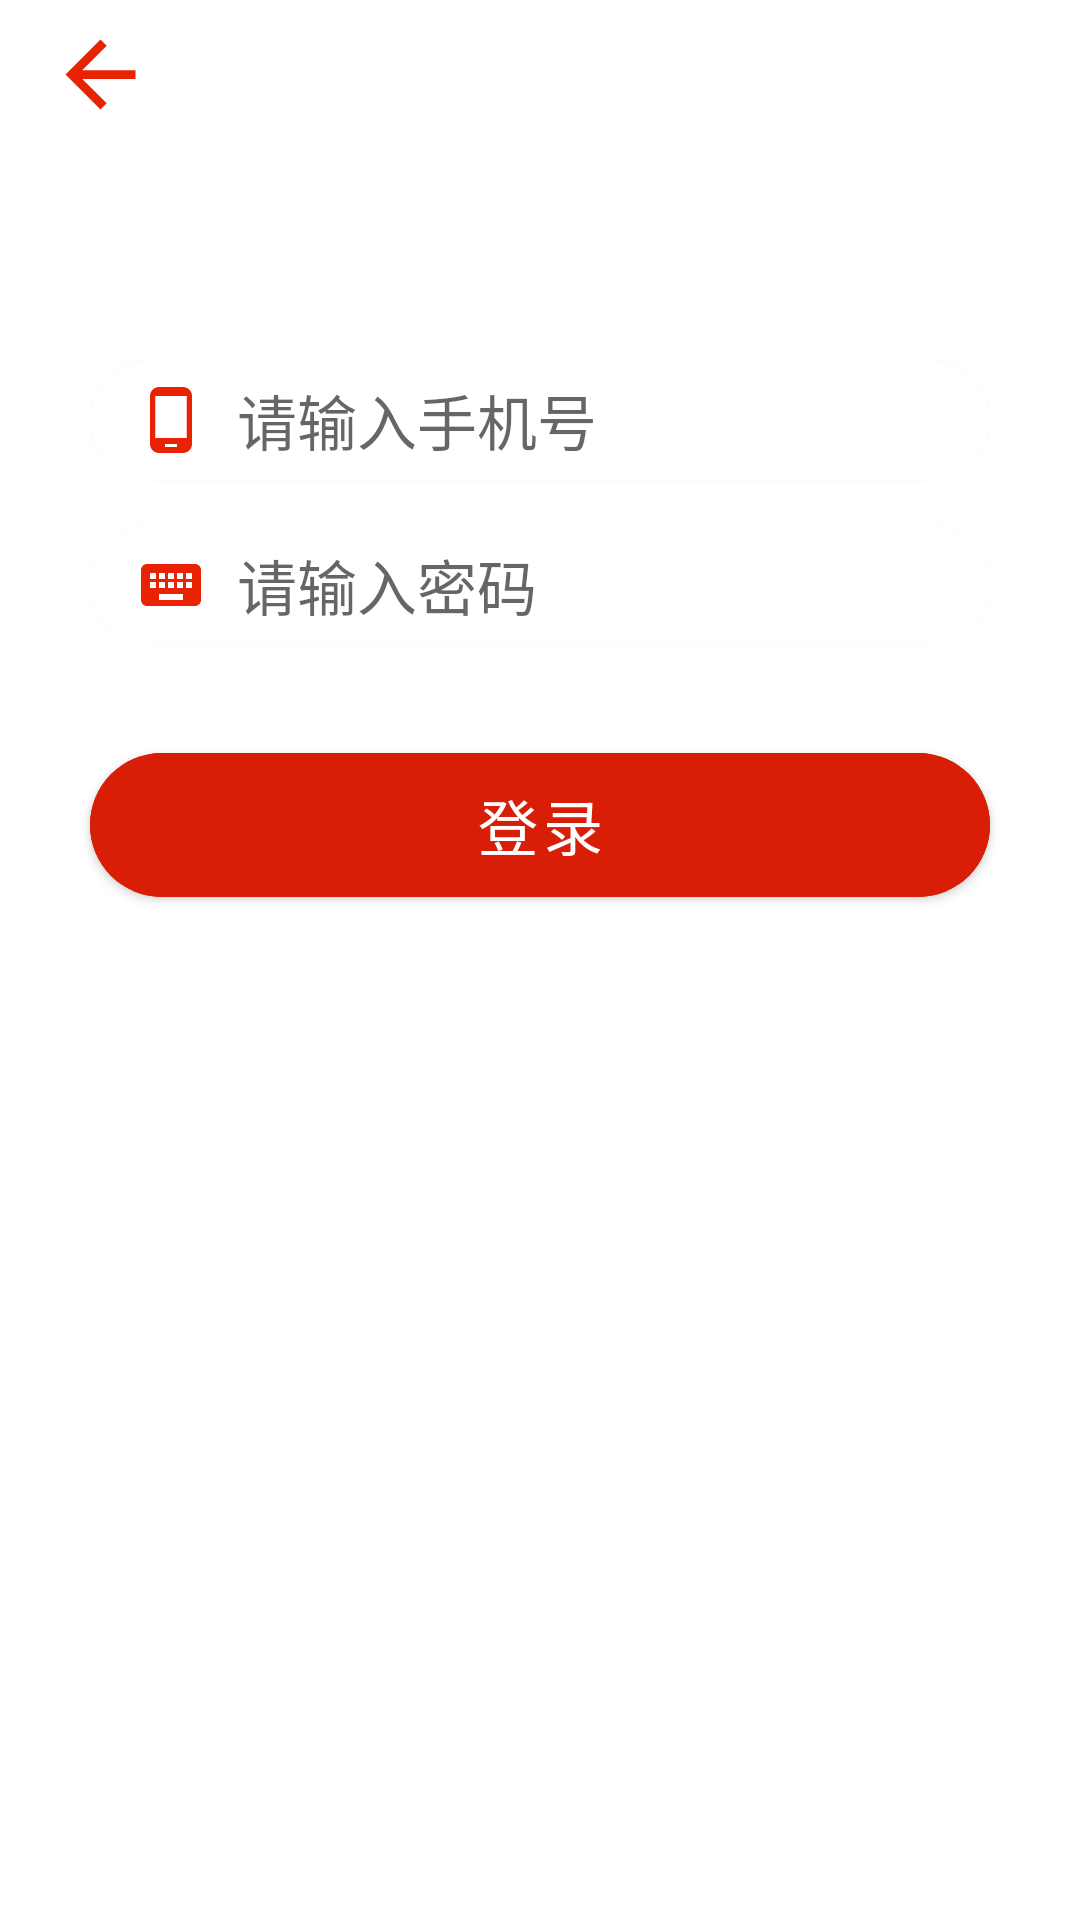

Icon click points for this 1080px×1920px phone screenshot, format (x=x, y=y):
arrow back: (x=100, y=74)
